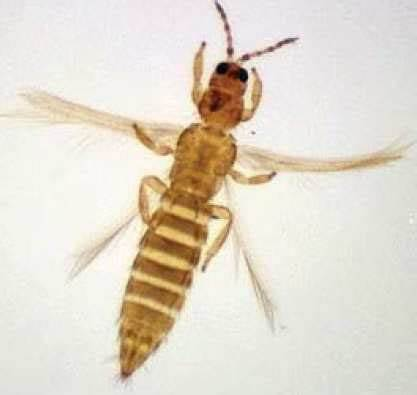Thripidae: (7, 1, 417, 388)
